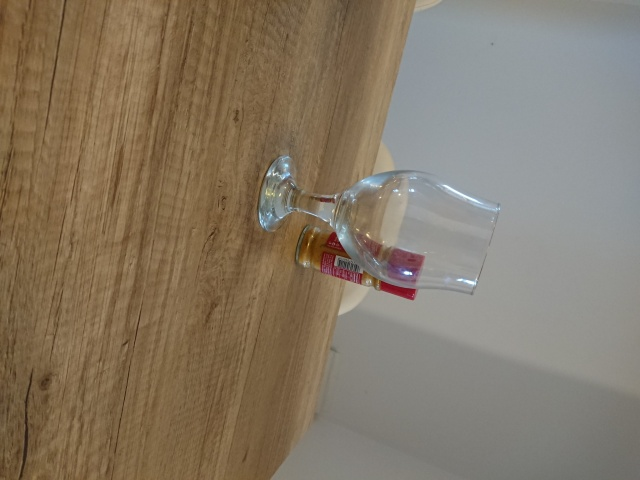Kotanyi Curry Spices Mix 70g: (293, 222, 427, 303)
